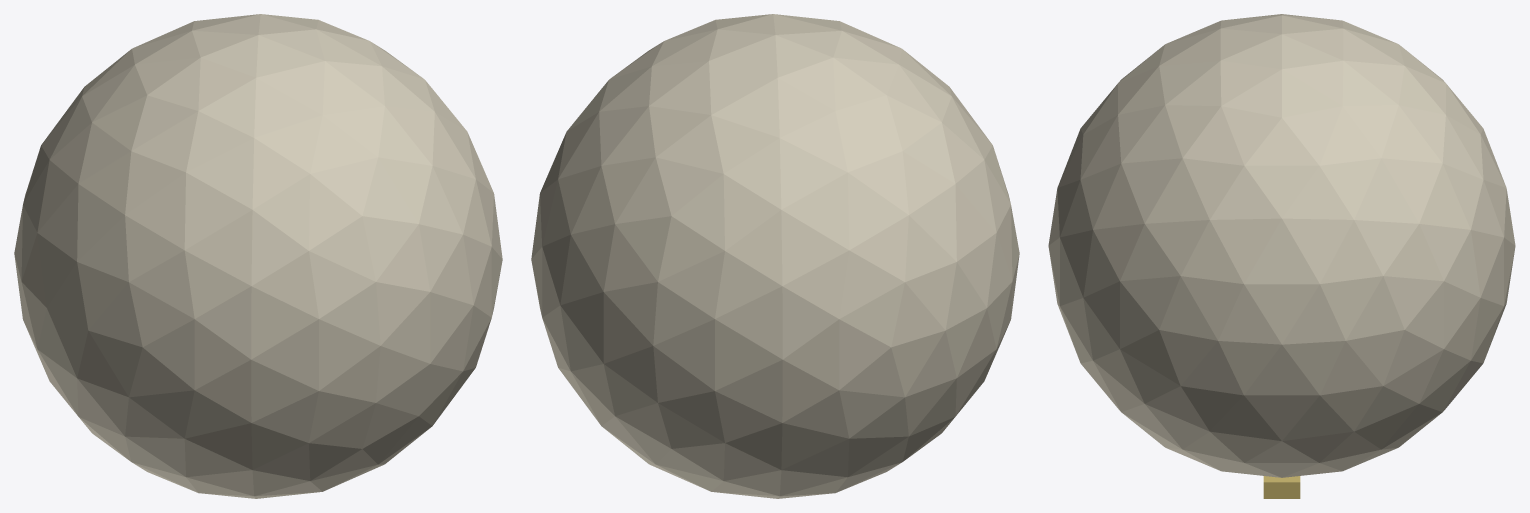
The model's file is cooked_potato.glb.
The picture shows the model from 3 angles, left to right: view 1: azimuth 30°, elevation 25°; view 2: azimuth 150°, elevation 25°; view 3: azimuth 270°, elevation 25°; orthographic projection. The views are drawn at different scales.
Visible parts, largest first — view 1: 00_peeled_potato; view 2: 00_peeled_potato; view 3: 00_peeled_potato, 01_butter.
Part boxes in pixels (x1=…): 00_peeled_potato: x1=14, y1=14, x2=502, y2=498; 00_peeled_potato: x1=531, y1=14, x2=1019, y2=498; 00_peeled_potato: x1=1048, y1=14, x2=1515, y2=477; 01_butter: x1=1263, y1=476, x2=1300, y2=498.
Size of the model in its own units: 0.23 by 0.23 by 0.23.
